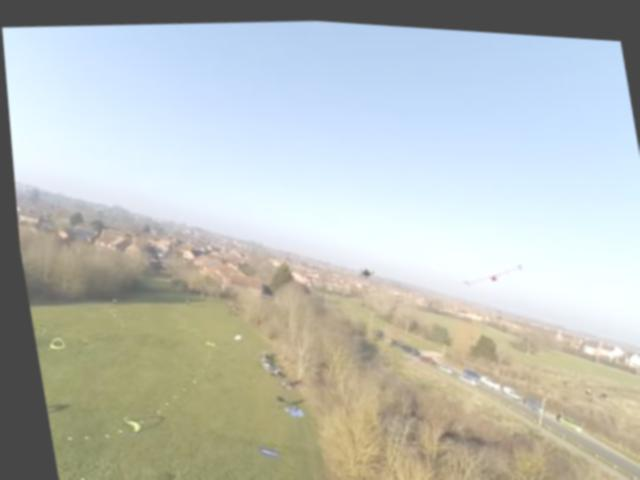uav: (449, 243, 531, 292)
